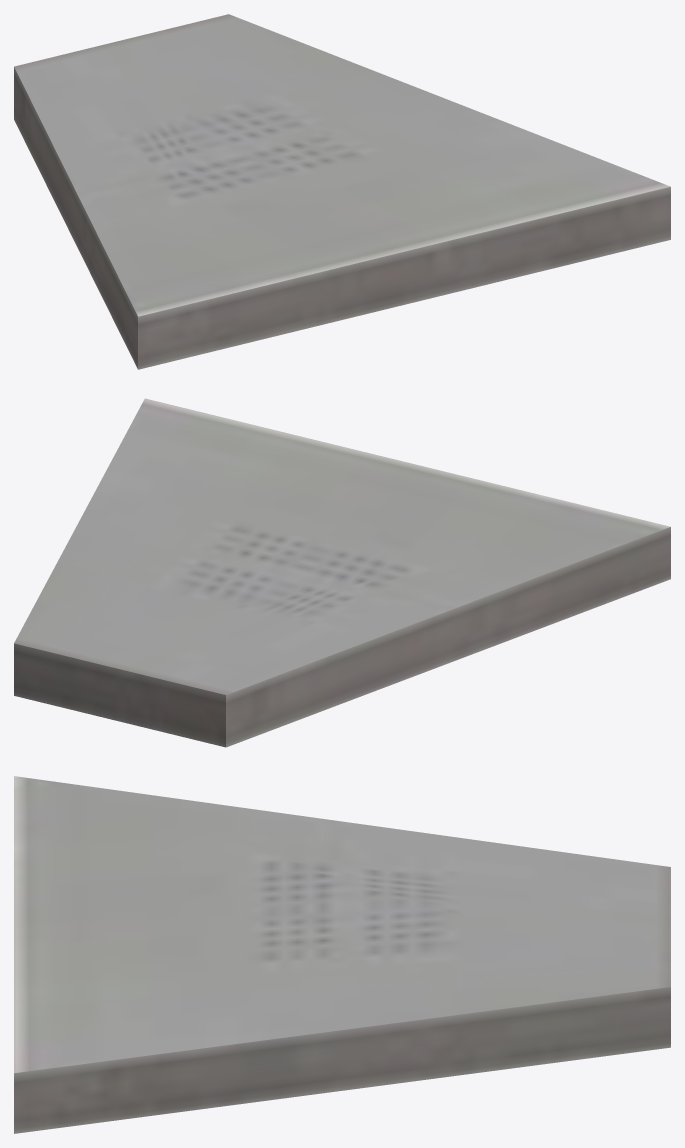
Rendered from colony-stairs-piece-art.glb.
3 views of the same model, one above another, from view 1: azimuth 30°, elevation 25°; view 2: azimuth 150°, elevation 25°; view 3: azimuth 270°, elevation 25° (orthographic). The views are drawn at different scales.
Parts seen in each view (by area): view 1: Colony_StairsPiece_Art; view 2: Colony_StairsPiece_Art; view 3: Colony_StairsPiece_Art.
Part boxes in pixels (x1,y1,x2,y2): Colony_StairsPiece_Art: (14,14,670,369); Colony_StairsPiece_Art: (14,398,670,747); Colony_StairsPiece_Art: (14,776,670,1133).
Bounding box in the file's own units: 3.16 × 0.3013 × 2.96.
1 material, 1 textured.
